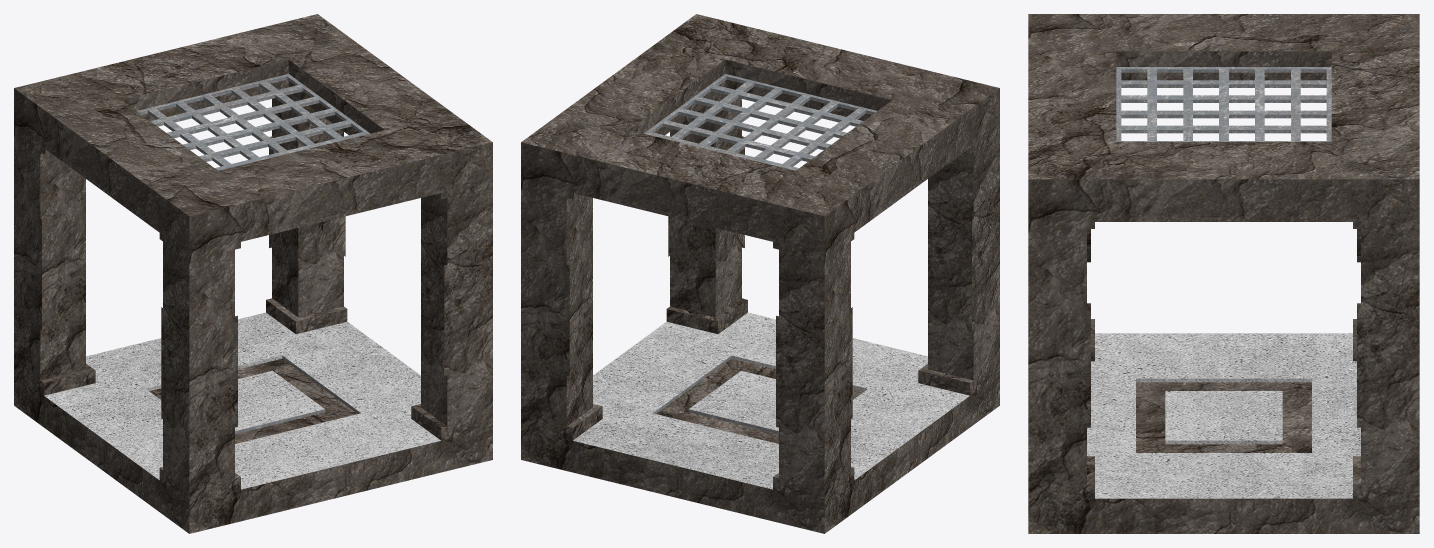
File: room_004.FBX
The picture shows the model from 3 angles, left to right: view 1: azimuth 30°, elevation 25°; view 2: azimuth 150°, elevation 25°; view 3: azimuth 270°, elevation 25°; orthographic projection. The views are drawn at different scales.
Parts seen in each view (by area): view 1: room_004; view 2: room_004; view 3: room_004.
Part boxes in pixels (box(x1,y1,x2,y2)): room_004: box(14, 14, 492, 533); room_004: box(521, 14, 999, 533); room_004: box(1028, 14, 1419, 533).
Size of the model in its own units: 100 by 100 by 100.
Materials: 1 (1 with a texture image).
